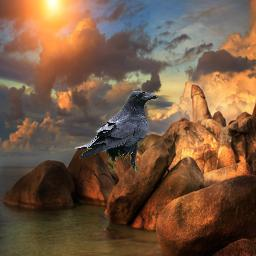Crow: (74, 91, 158, 173)
